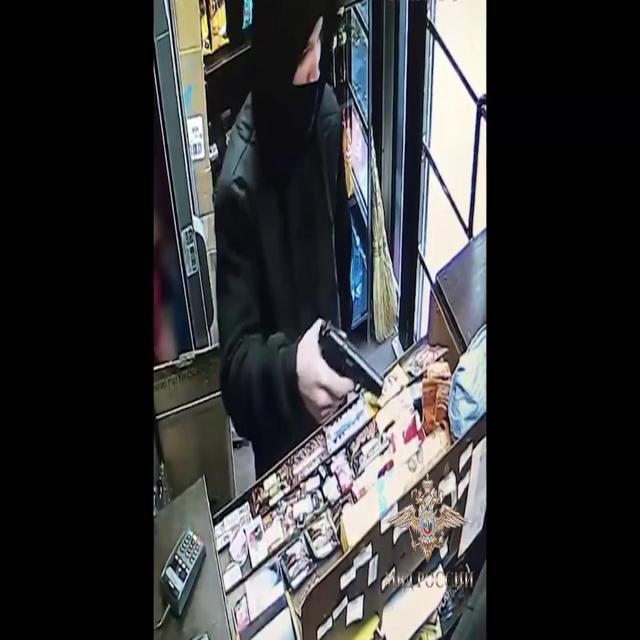pistol: (294, 320, 383, 423)
